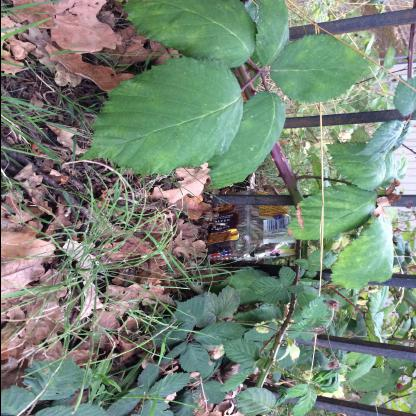plastik: (205, 188, 299, 262)
